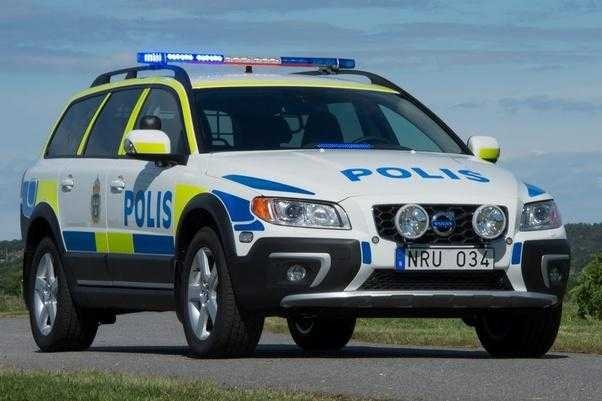Police Car: (32, 42, 555, 358)
